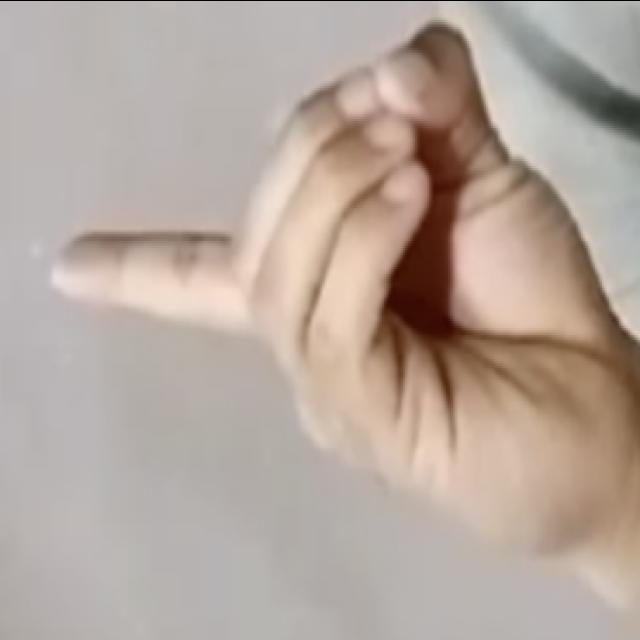D: (40, 16, 625, 594)
